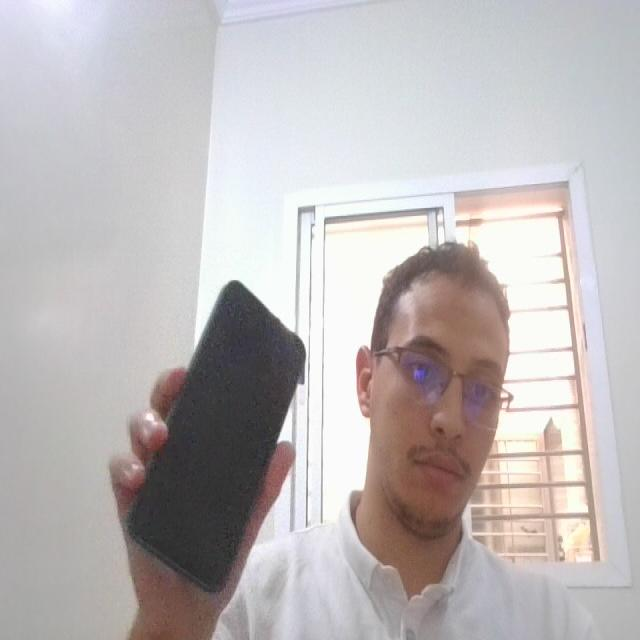phone: (120, 268, 314, 601)
